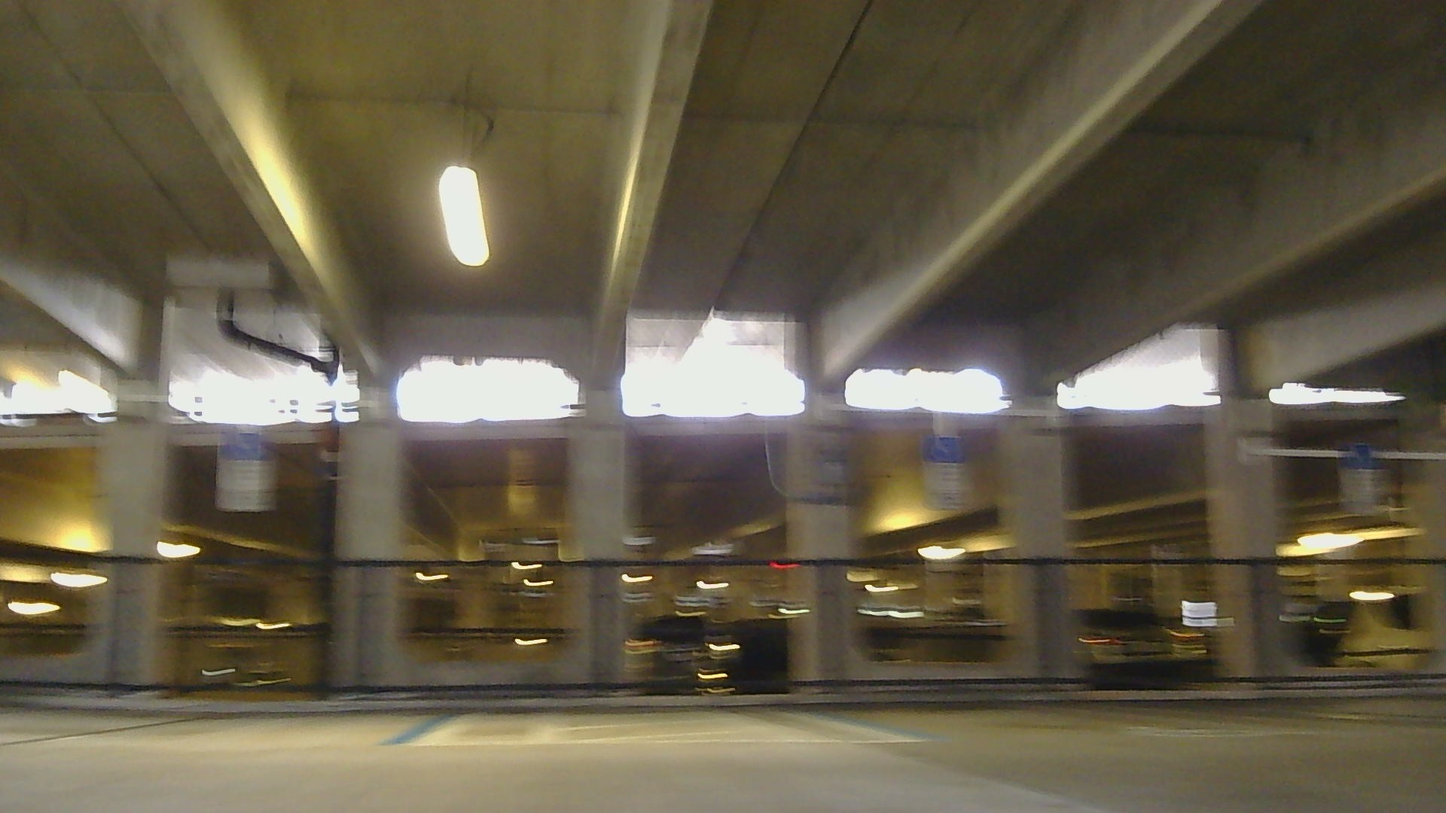empty_spot: (747, 599, 1434, 746), (0, 644, 468, 757)
